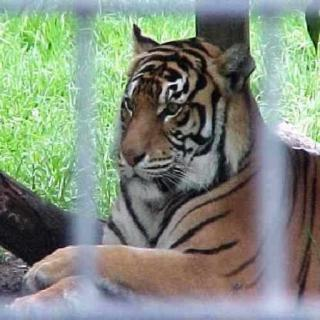Tiger: (87, 15, 320, 314)
